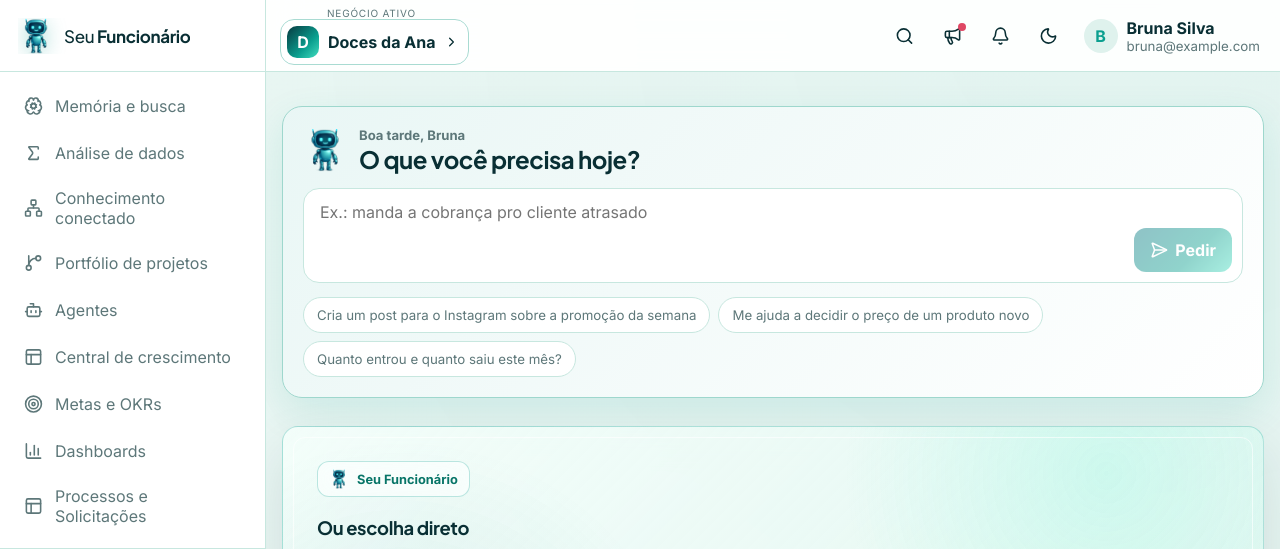
Test: Agentes › avisa em toda tela que a IA pode errar
(page scrolled)
Step 1. Click the button "Agentes" → (132, 310), box [12, 288, 253, 332]
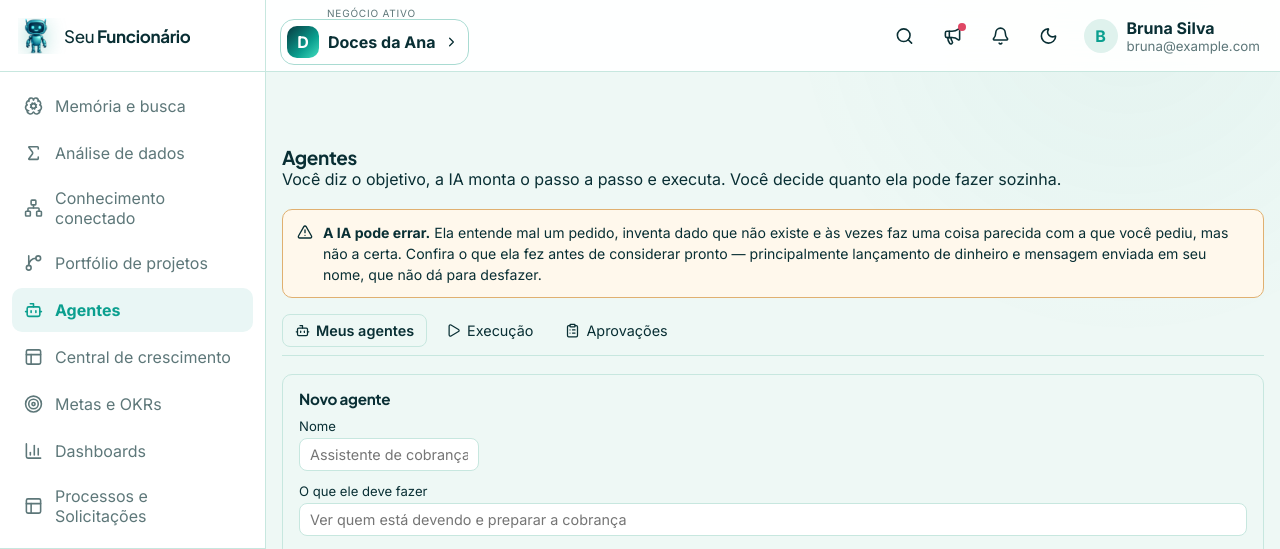
Check: the element with class "ag-disclaimer" is shown, box [282, 209, 1264, 298]
Check: the element with class "ag-disclaimer" shows "A IA pode errar", box [323, 224, 430, 241]
Check: the element with class "ag-disclaimer" shows "não dá para desfazer", box [323, 224, 1228, 283]
